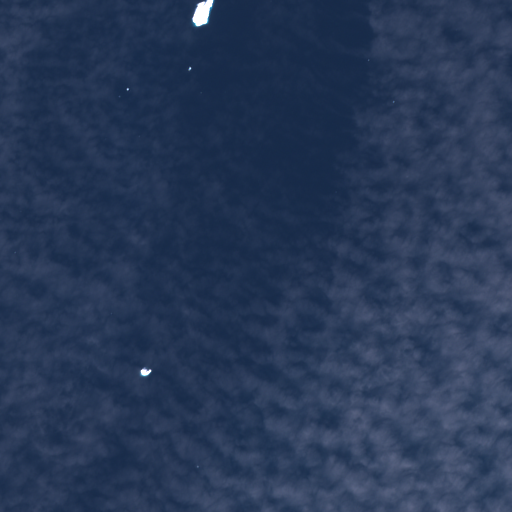Iceberg: (191, 0, 214, 26), (140, 367, 151, 375), (188, 66, 191, 71), (126, 88, 128, 90), (197, 465, 198, 467), (368, 59, 369, 60), (119, 96, 120, 97), (393, 101, 394, 102)
